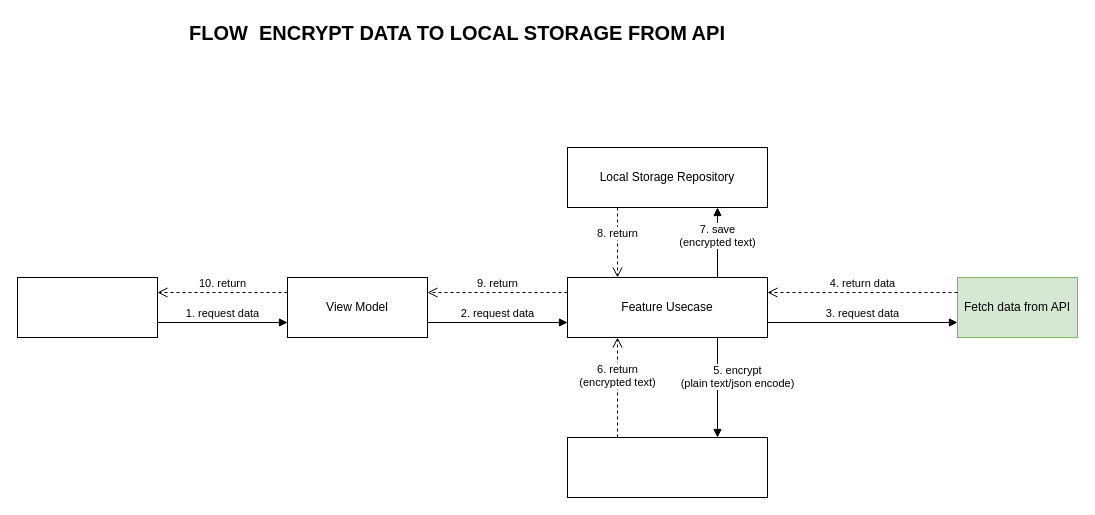
Image size: 1095x515. Some labels were removed from this diagram. Each missing label, with the centre of its shape:
Crypto Repository: (x=667, y=467)
UI: (x=87, y=307)
